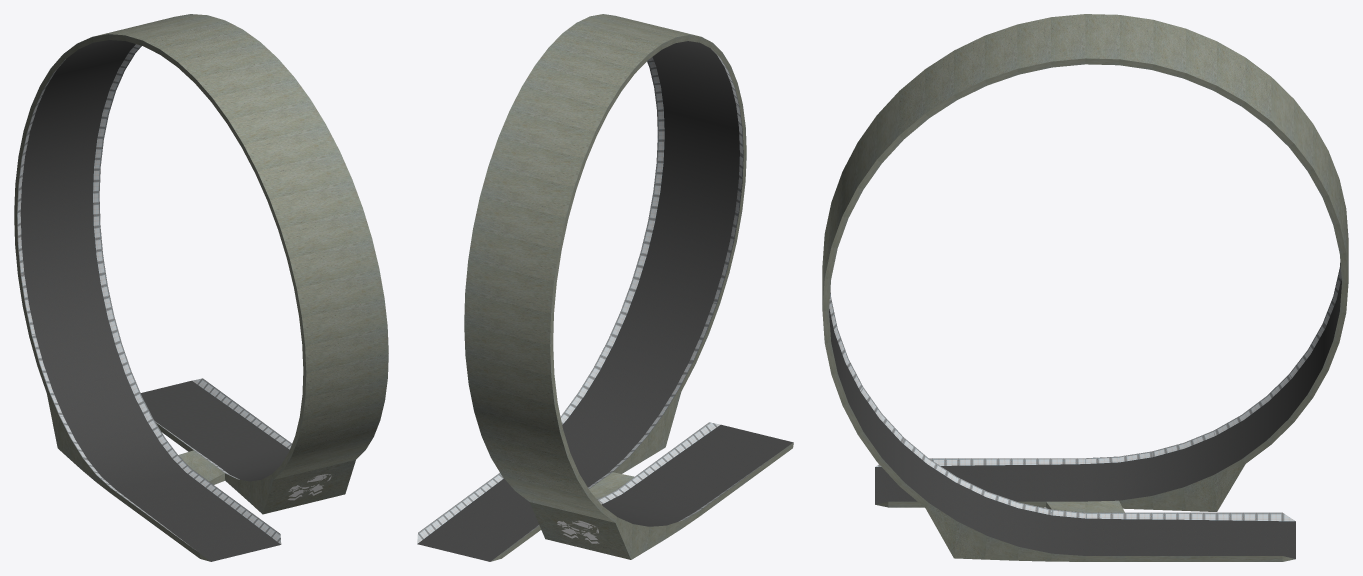
Rendered from Loop.fbx.
The picture shows the model from 3 angles, left to right: view 1: azimuth 30°, elevation 25°; view 2: azimuth 150°, elevation 25°; view 3: azimuth 270°, elevation 25°; orthographic projection. The views are drawn at different scales.
Parts seen in each view (by area): view 1: Loop; view 2: Loop; view 3: Loop.
Boxes of the visible parts, x1=… form: Loop: x1=14, y1=14, x2=388, y2=561; Loop: x1=417, y1=14, x2=793, y2=561; Loop: x1=822, y1=14, x2=1348, y2=561.
Bounding box in the file's own units: 1760 × 4000 × 4000.
